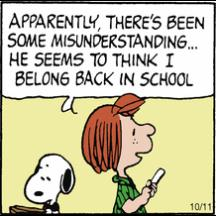snoopy: (22, 153, 76, 215)
